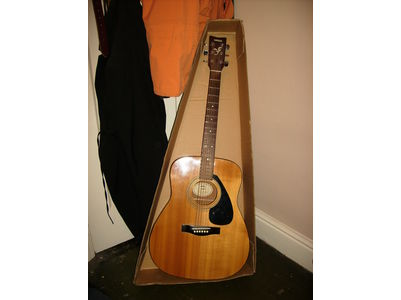guitar: (148, 34, 249, 281)
